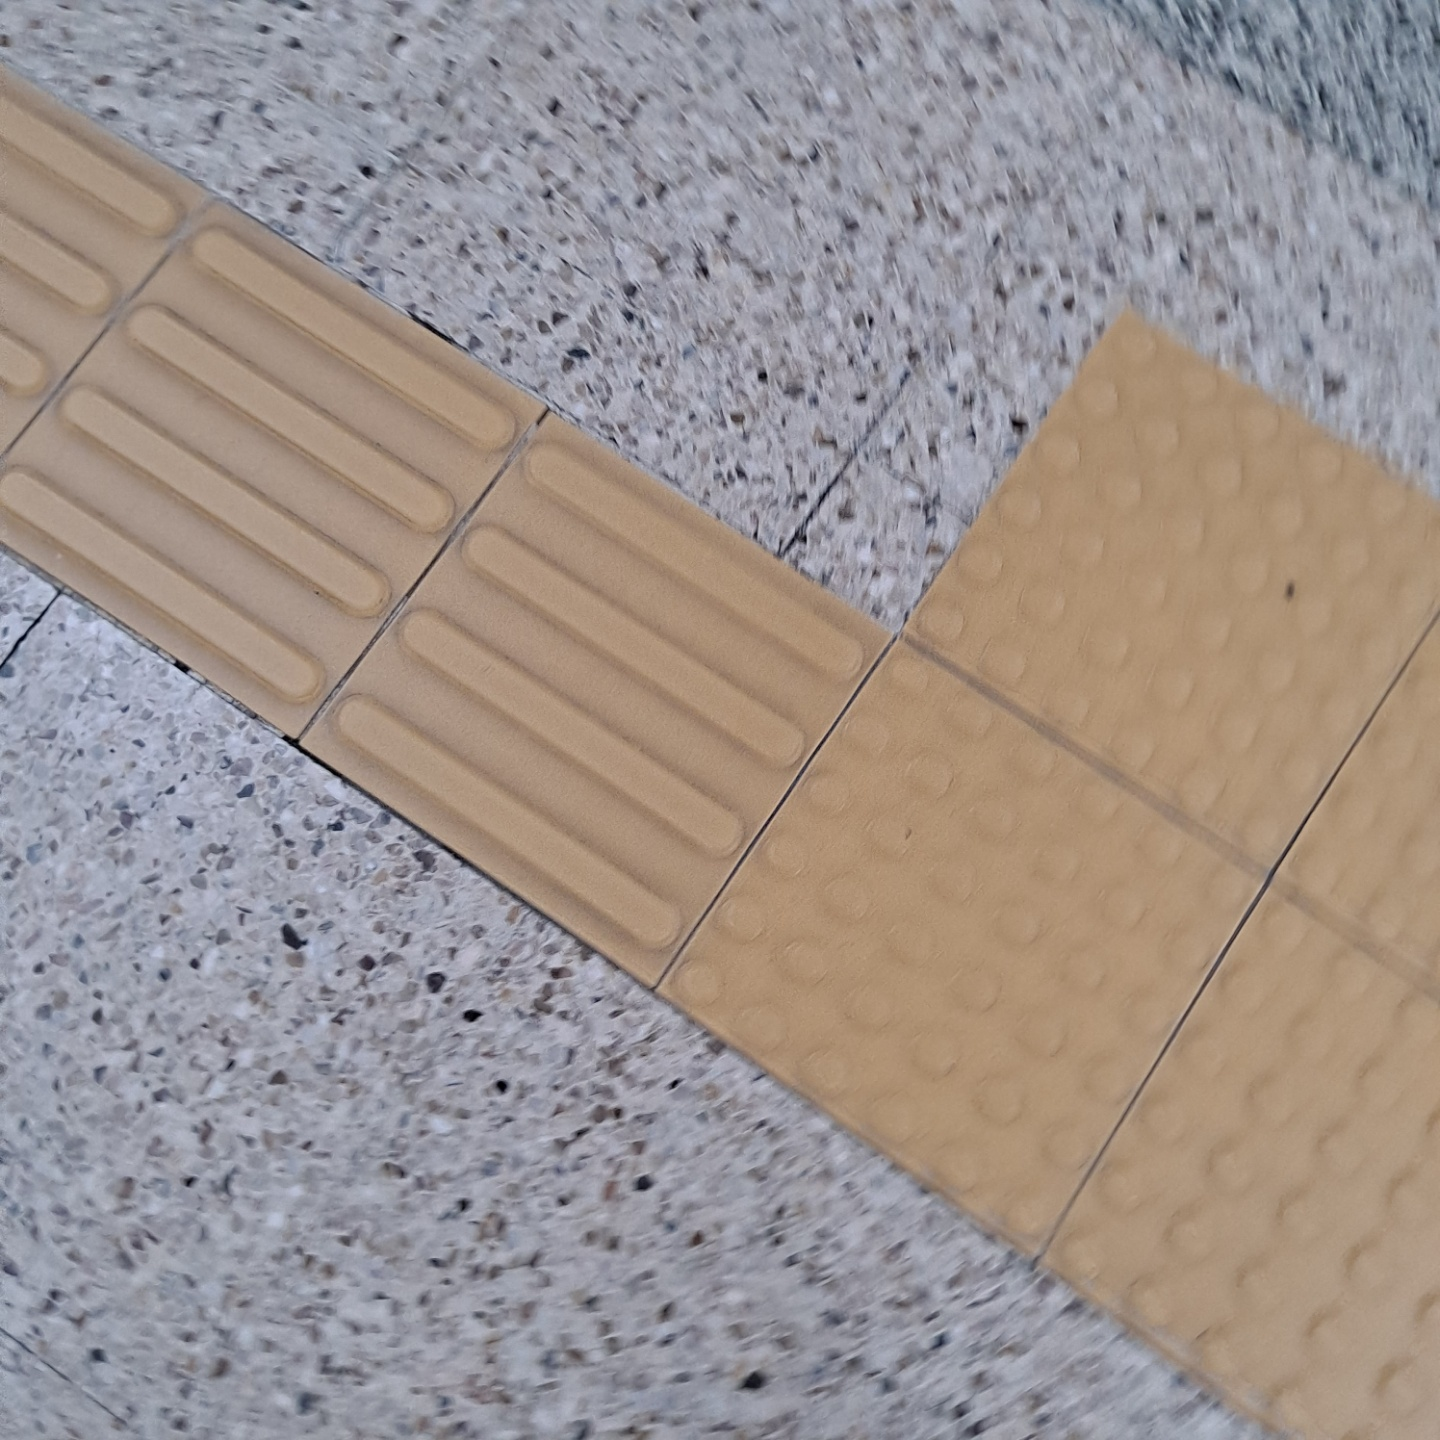guideBlock: (404, 462, 855, 934), (38, 223, 512, 636)
warningBlock: (829, 667, 1192, 1193), (1062, 347, 1400, 804), (1160, 910, 1440, 1436)
